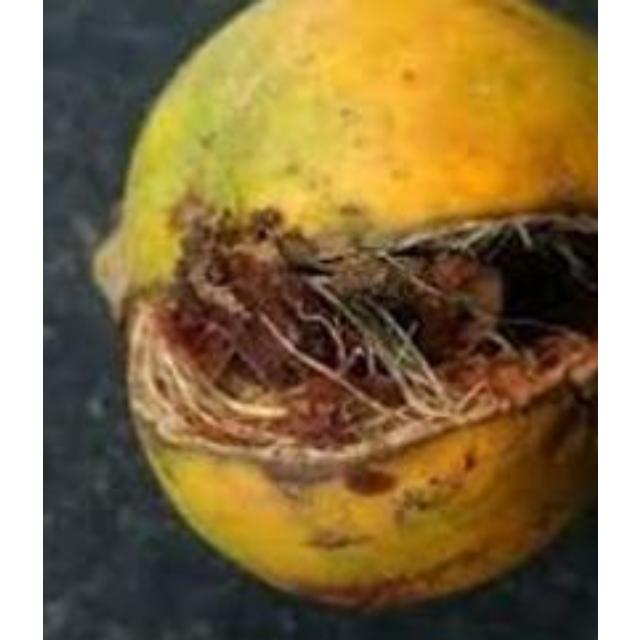damaged: (87, 3, 594, 619)
